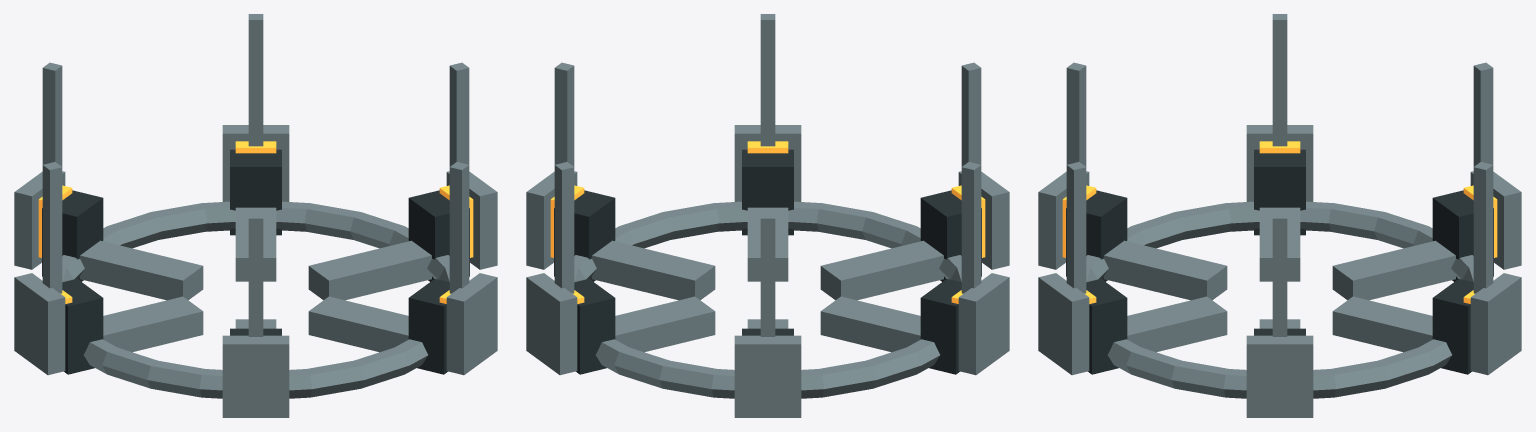
File: contact-discharge.glb
3 renders of one model, left to right at view 1: azimuth 30°, elevation 25°; view 2: azimuth 150°, elevation 25°; view 3: azimuth 270°, elevation 25°, orthographic.
Visible parts, largest first — view 1: DischargeSteel, DischargeInsulator, Shutter5, Shutter0, Shutter4, Shutter1, Shutter3, Shutter2, DischargeAmber; view 2: DischargeSteel, DischargeInsulator, Shutter3, Shutter2, Shutter4, Shutter1, Shutter5, Shutter0, DischargeAmber; view 3: DischargeSteel, DischargeInsulator, Shutter1, Shutter0, Shutter2, Shutter3, Shutter5, Shutter4, DischargeAmber.
Part boxes in pixels (left/top/right/bottom): DischargeSteel: left=42, top=14, right=469, bottom=398; DischargeInsulator: left=42, top=149, right=469, bottom=374; Shutter5: left=222, top=335, right=289, bottom=417; Shutter0: left=446, top=273, right=497, bottom=375; Shutter4: left=14, top=273, right=65, bottom=375; Shutter1: left=446, top=171, right=497, bottom=269; Shutter3: left=14, top=171, right=65, bottom=269; Shutter2: left=222, top=125, right=289, bottom=201; DischargeAmber: left=38, top=141, right=473, bottom=303; DischargeSteel: left=554, top=14, right=981, bottom=398; DischargeInsulator: left=554, top=149, right=981, bottom=374; Shutter3: left=734, top=335, right=801, bottom=417; Shutter2: left=526, top=273, right=577, bottom=375; Shutter4: left=958, top=273, right=1009, bottom=375; Shutter1: left=526, top=171, right=577, bottom=269; Shutter5: left=958, top=171, right=1009, bottom=269; Shutter0: left=734, top=125, right=801, bottom=201; DischargeAmber: left=550, top=141, right=985, bottom=303; DischargeSteel: left=1066, top=14, right=1493, bottom=398; DischargeInsulator: left=1066, top=149, right=1493, bottom=374; Shutter1: left=1246, top=335, right=1313, bottom=417; Shutter0: left=1038, top=273, right=1089, bottom=375; Shutter2: left=1470, top=273, right=1521, bottom=375; Shutter3: left=1470, top=171, right=1521, bottom=269; Shutter5: left=1038, top=171, right=1089, bottom=269; Shutter4: left=1246, top=125, right=1313, bottom=201; DischargeAmber: left=1062, top=141, right=1497, bottom=303.
Size of the model in its own units: 0.895 by 0.38 by 0.8326.
